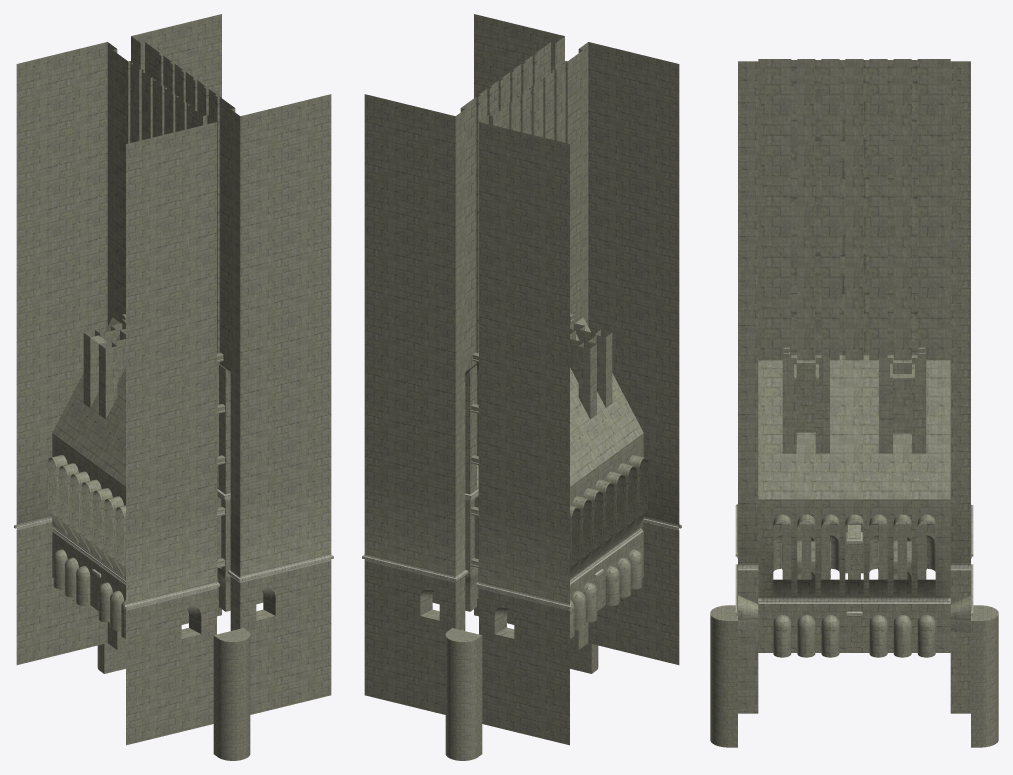
File: SM_ImpassNew_Blockout00.fbx
3 views of the same model, side by side, from view 1: azimuth 30°, elevation 25°; view 2: azimuth 150°, elevation 25°; view 3: azimuth 270°, elevation 25° (orthographic). The views are drawn at different scales.
Parts seen in each view (by area): view 1: SM_ImpassNew_Blockout00; view 2: SM_ImpassNew_Blockout00; view 3: SM_ImpassNew_Blockout00.
Boxes of the visible parts, x1=… form: SM_ImpassNew_Blockout00: x1=14, y1=14, x2=333, y2=760; SM_ImpassNew_Blockout00: x1=362, y1=14, x2=681, y2=760; SM_ImpassNew_Blockout00: x1=710, y1=59, x2=998, y2=747.
Bounding box in the file's own units: 5280 × 15302 × 5951.
